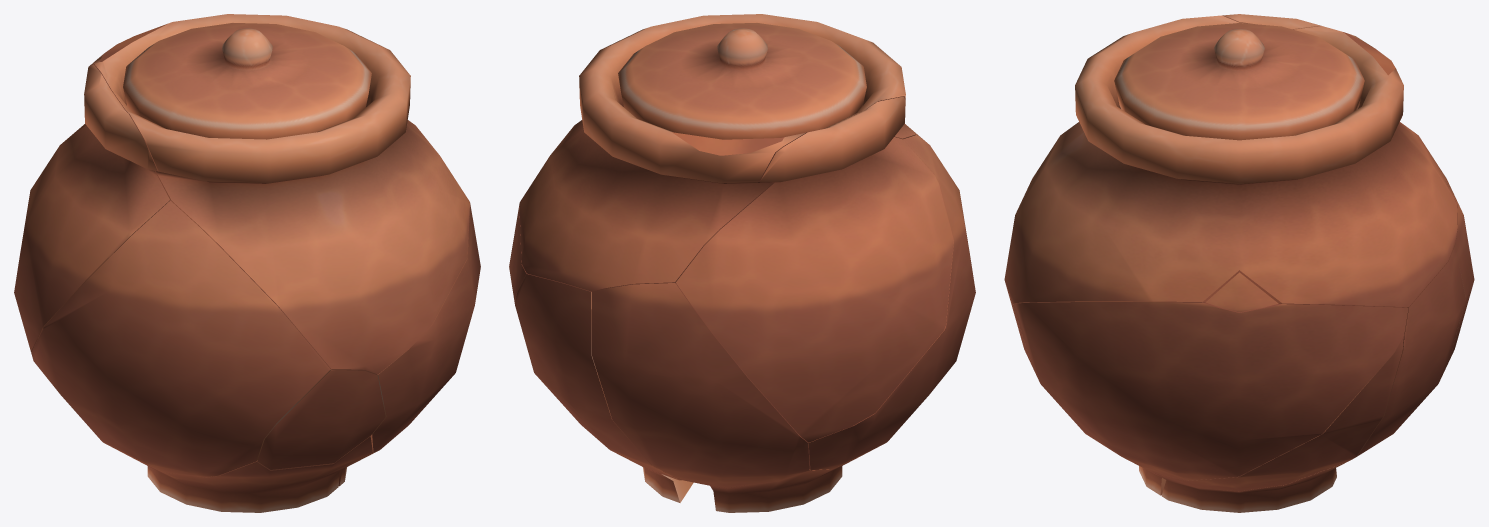
The model's file is pot1_shards.fbx.
The picture shows the model from 3 angles, left to right: view 1: azimuth 30°, elevation 25°; view 2: azimuth 150°, elevation 25°; view 3: azimuth 270°, elevation 25°; orthographic projection.
Visible parts, largest first — view 1: pot1_low.001_cell.012, pot1_low.001_cell.011, pot1lid_low.001, pot1_low.001_cell.007, pot1_low.001_cell.001, pot1_low.001_cell.002, pot1_low.001_cell.004; view 2: pot1_low.001_cell.007, pot1_low.001_cell.012, pot1_low.001_cell.015, pot1lid_low.001, pot1_low.001_cell.010, pot1_low.001_cell.011, pot1_low.001_cell.004, pot1_low.001_cell.005, pot1_low.001_cell.002; view 3: pot1_low.001_cell.012, pot1_low.001_cell.002, pot1lid_low.001, pot1_low.001_cell.010, pot1_low.001_cell.013, pot1_low.001_cell.005, pot1_low.001_cell.003, pot1_low.001_cell.015, pot1_low.001_cell.007.
Boxes of the visible parts, <box> form: pot1_low.001_cell.012: <box>92,14,469,374</box>; pot1_low.001_cell.011: <box>31,200,330,477</box>; pot1lid_low.001: <box>123,23,371,139</box>; pot1_low.001_cell.007: <box>14,63,169,351</box>; pot1_low.001_cell.001: <box>257,370,385,469</box>; pot1_low.001_cell.002: <box>370,203,480,453</box>; pot1_low.001_cell.004: <box>133,436,372,512</box>; pot1_low.001_cell.007: <box>676,96,953,442</box>; pot1_low.001_cell.012: <box>519,14,919,291</box>; pot1_low.001_cell.015: <box>591,283,809,487</box>; pot1lid_low.001: <box>618,23,866,139</box>; pot1_low.001_cell.010: <box>515,274,681,480</box>; pot1_low.001_cell.011: <box>807,135,975,470</box>; pot1_low.001_cell.004: <box>710,458,856,512</box>; pot1_low.001_cell.005: <box>643,467,693,502</box>; pot1_low.001_cell.002: <box>509,206,529,299</box>; pot1_low.001_cell.012: <box>1004,15,1457,307</box>; pot1_low.001_cell.002: <box>1013,302,1408,480</box>; pot1lid_low.001: <box>1114,23,1364,140</box>; pot1_low.001_cell.010: <box>1356,245,1465,456</box>; pot1_low.001_cell.013: <box>1159,337,1403,491</box>; pot1_low.001_cell.005: <box>1154,463,1344,512</box>; pot1_low.001_cell.003: <box>1205,272,1278,312</box>; pot1_low.001_cell.015: <box>1446,182,1474,360</box>; pot1_low.001_cell.007: <box>1222,14,1450,187</box>.
Size of the model in its own units: 165 by 170 by 165.
1 material, 1 textured.
